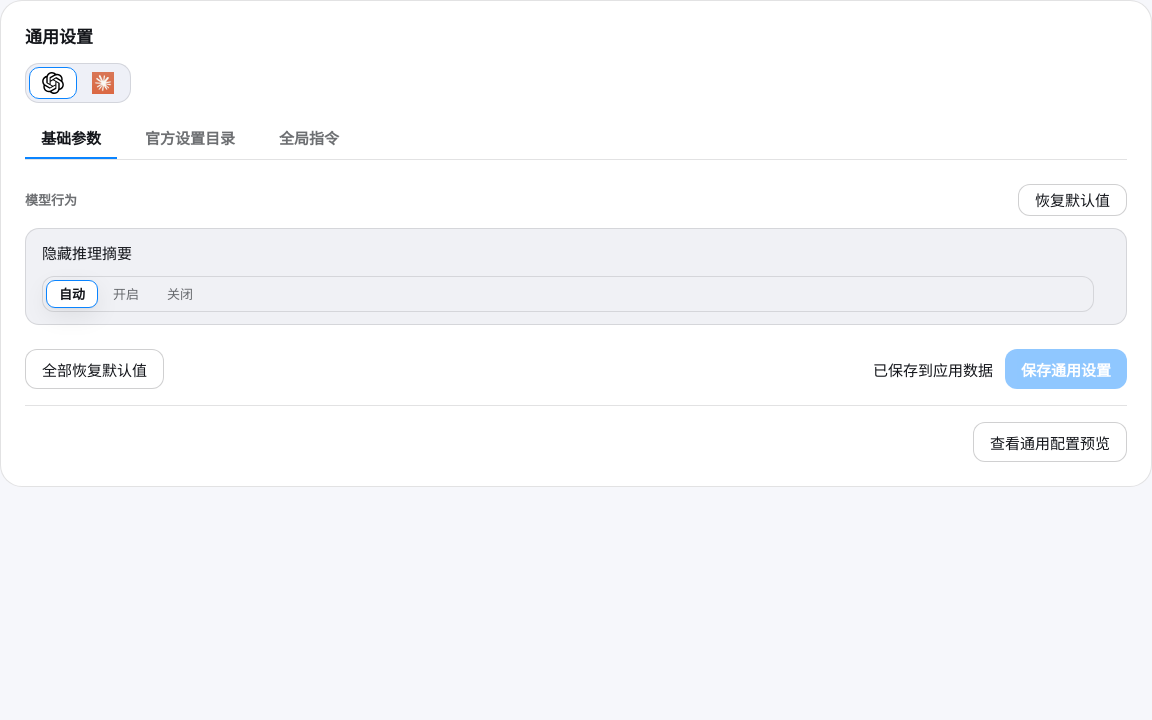
Scenario: CommonSettingsPage › shows the backend-rendered common-settings fragment on demand and folds it with the same button
Click the button "查看通用配置预览" at (1050, 442), box [973,422,1127,462]
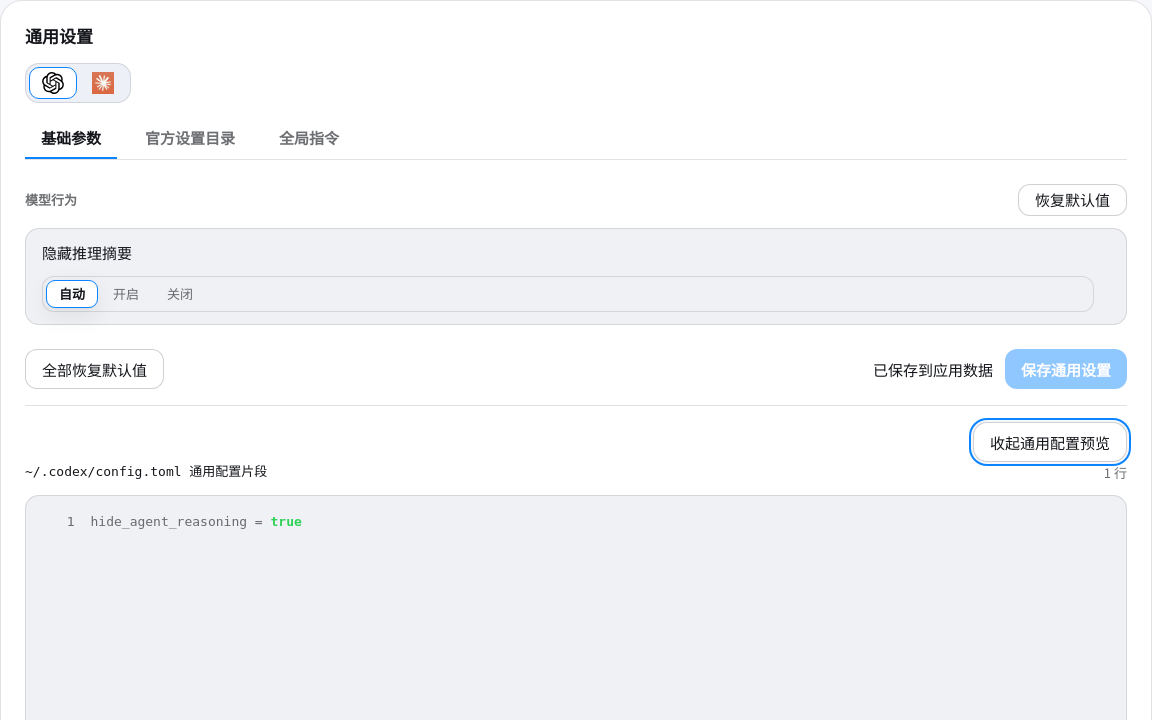
Expected: the element named "~/.codex/config.toml 通用配置片段 配置预览" shows "hide_agent_reasoning = true", [25,462,1127,719]
Expected: the button "收起通用配置预览" is expanded
Click the button "收起通用配置预览" at (1050, 442), box [973,422,1127,462]
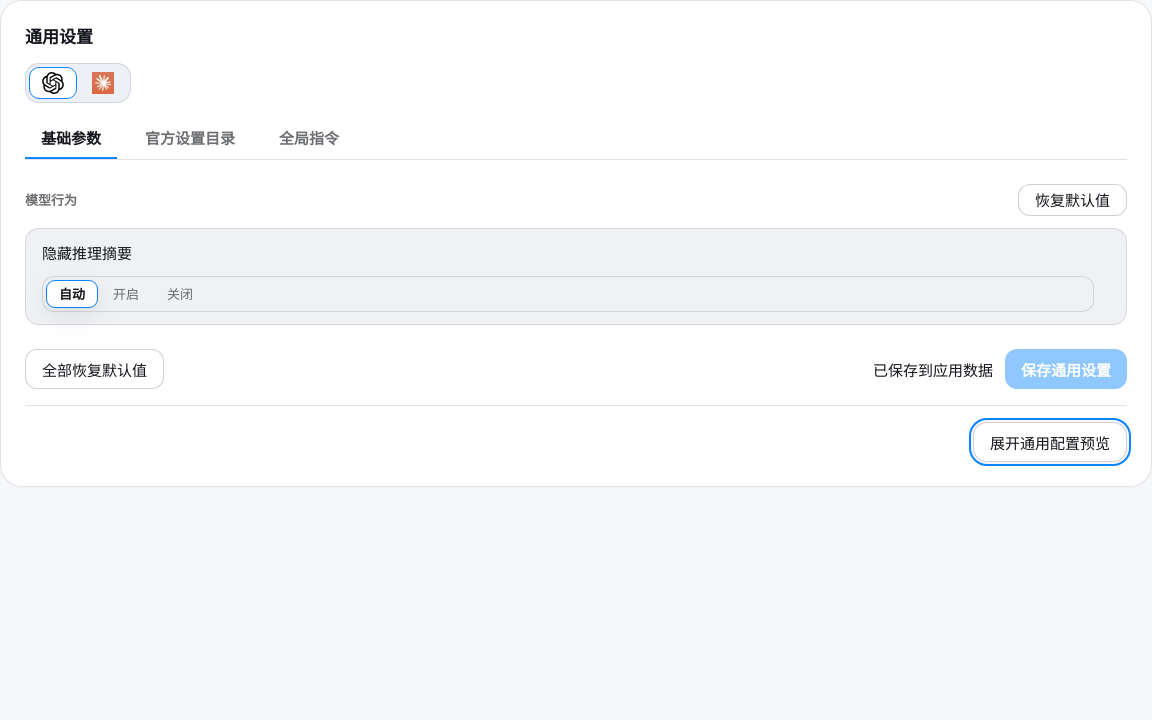
Expected: the button "展开通用配置预览" is collapsed
Click the button "展开通用配置预览" at (1050, 442), box [973,422,1127,462]
(page scrolled)
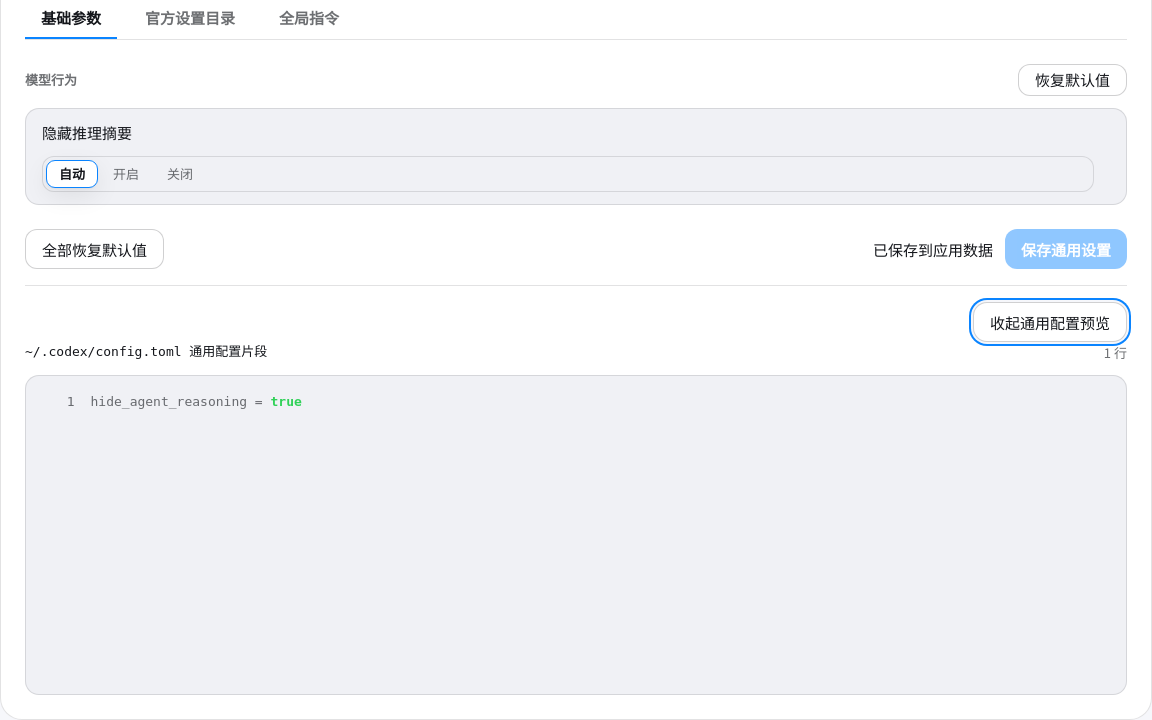
Expected: the element named "~/.codex/config.toml 通用配置片段 配置预览" shows "hide_agent_reasoning = true", [25,342,1127,695]
